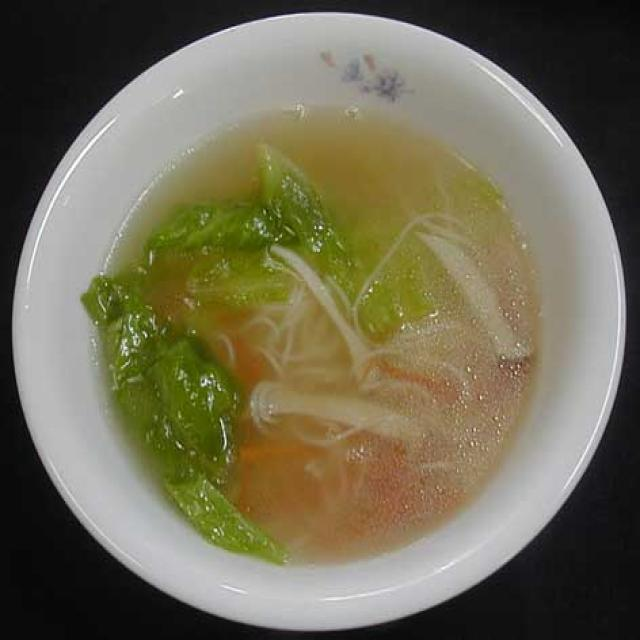汤锅炖物: (6, 8, 620, 630)
